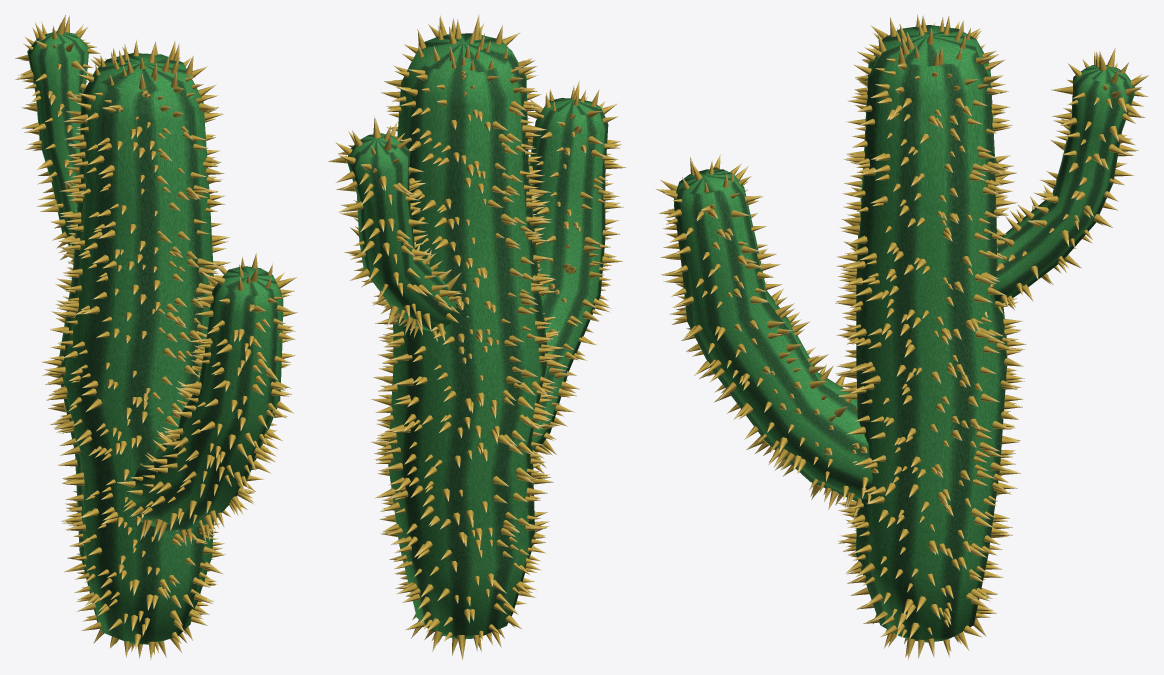
Rendered from Cactus 2.fbx.
3 views of the same model, side by side, from view 1: azimuth 30°, elevation 25°; view 2: azimuth 150°, elevation 25°; view 3: azimuth 270°, elevation 25° (orthographic). The views are drawn at different scales.
Visible parts, largest first — view 1: cactus 2; view 2: cactus 2; view 3: cactus 2.
Boxes of the visible parts, bbox=[...] form: cactus 2: bbox=[15, 14, 297, 659]; cactus 2: bbox=[328, 14, 626, 660]; cactus 2: bbox=[656, 14, 1148, 659].
Bounding box in the file's own units: 0.4725 × 1.63 × 1.16.
1 material, 1 textured.
